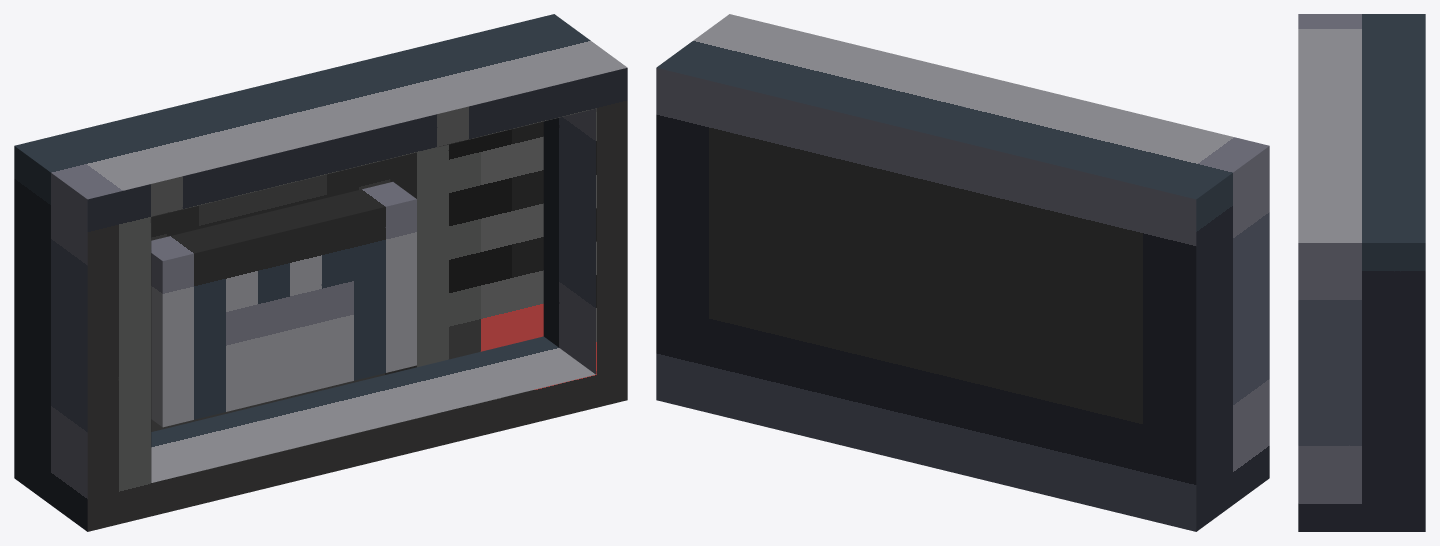
The model's file is apc_cover_removed_cell.glb.
The picture shows the model from 3 angles, left to right: view 1: azimuth 30°, elevation 25°; view 2: azimuth 150°, elevation 25°; view 3: azimuth 270°, elevation 25°; orthographic projection. The views are drawn at different scales.
Parts seen in each view (by area): view 1: Lined_Enclosure, Removable_Power_Cell, Interior_Backplate, Removable_Control_Board; view 2: Lined_Enclosure; view 3: Lined_Enclosure.
Boxes of the visible parts, left/top/right/bottom form: Lined_Enclosure: left=14, top=14, right=627, bottom=531; Removable_Power_Cell: left=151, top=182, right=416, bottom=427; Interior_Backplate: left=151, top=121, right=543, bottom=431; Removable_Control_Board: left=151, top=159, right=390, bottom=240; Lined_Enclosure: left=656, top=14, right=1269, bottom=531; Lined_Enclosure: left=1298, top=14, right=1425, bottom=531.
Bounding box in the file's own units: 0.4781 × 0.2812 × 0.1125.
Materials: 1 (1 with a texture image).
